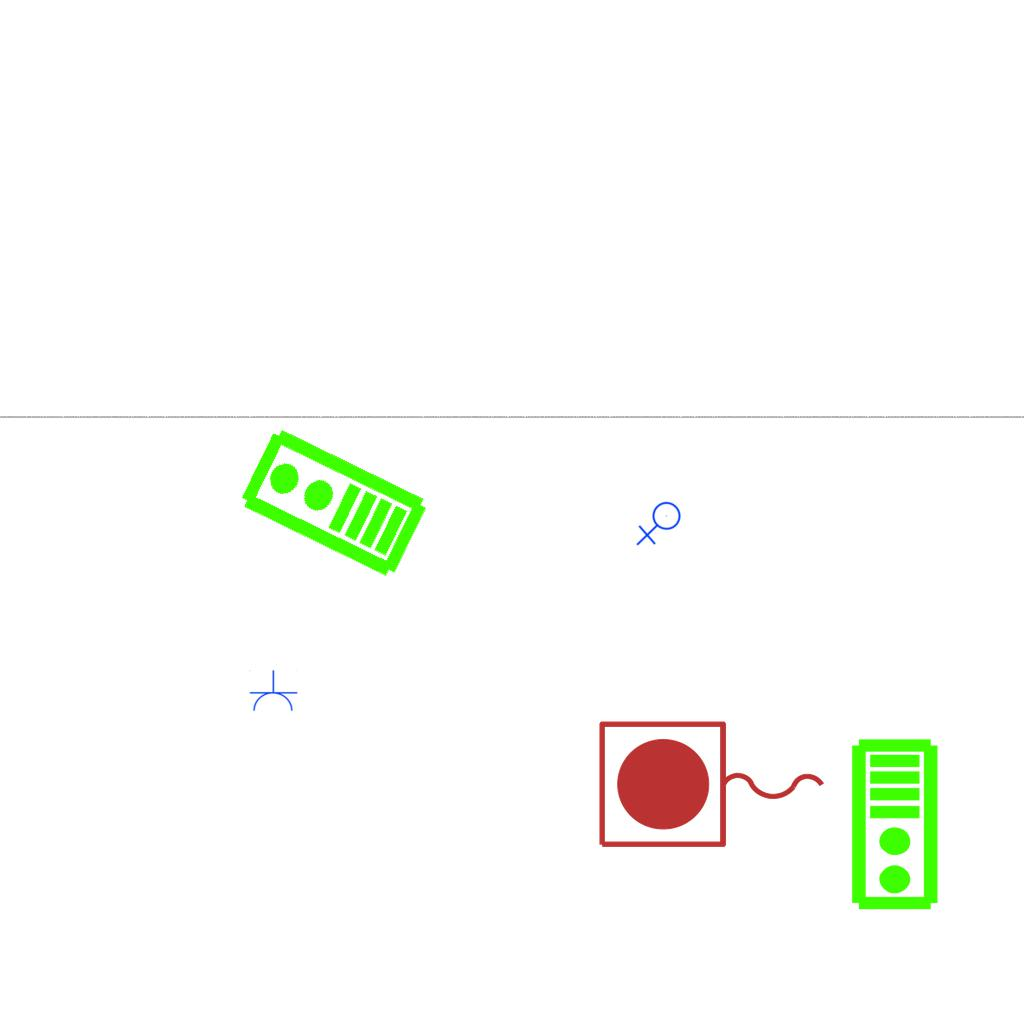Elektroanschluss_allgemein_230V_Geraeteanschlussdose_230V: (636, 501, 685, 548)
Gegensprechanlage_mit_Video: (232, 422, 433, 586), (849, 737, 944, 913)
Schukosteckdose_einfach: (248, 670, 298, 713)
Zugtaster: (591, 714, 835, 858)
